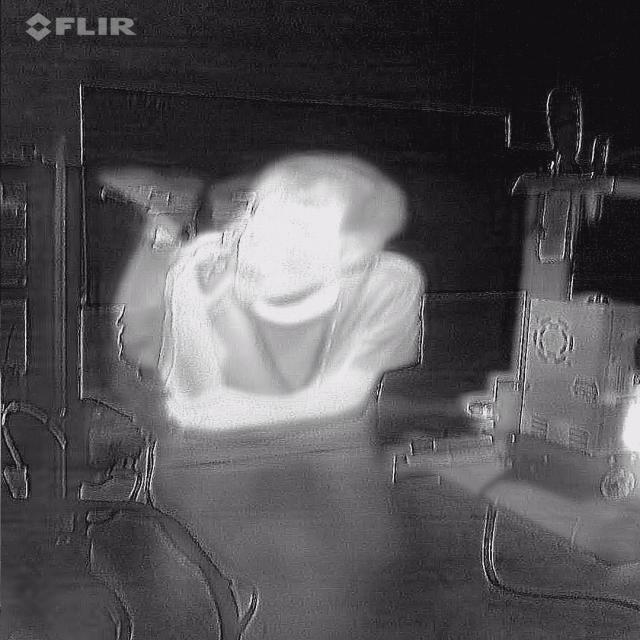Victim: (90, 153, 430, 438)
